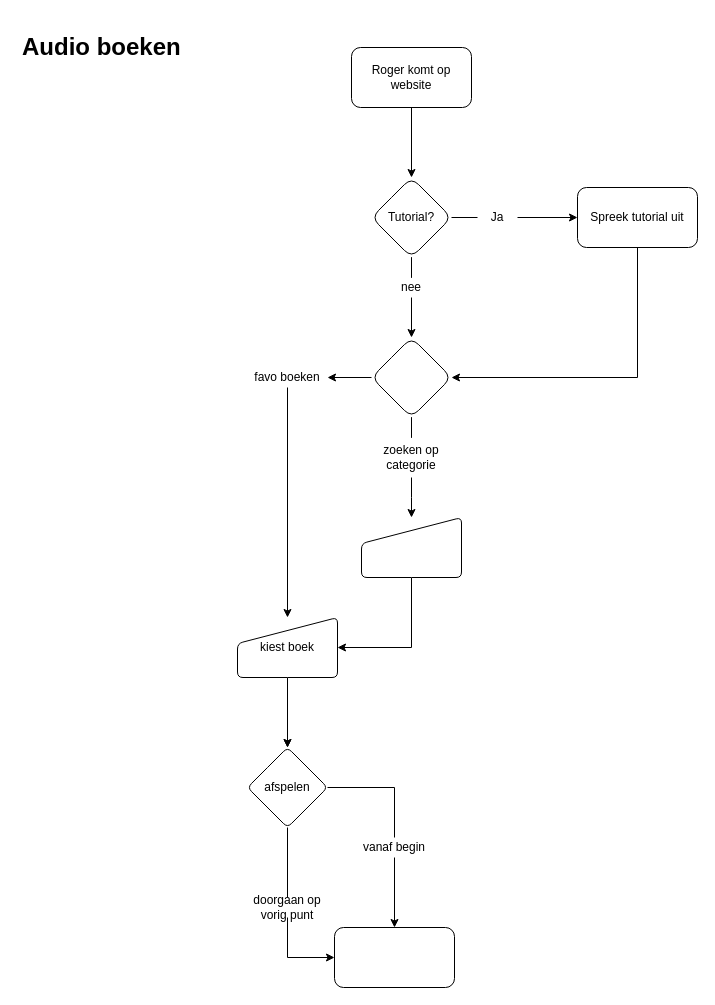
Image size: 715x1005. Some labels were removed from this diagram. The shapes that lost their labels are listed below. From the top down, each one's centre as x and y in pixels, then its label:
At point 411,377: "Keuzemenu".
At point 411,547: "kiest categorie".
At point 394,957: "boek afspelen".
